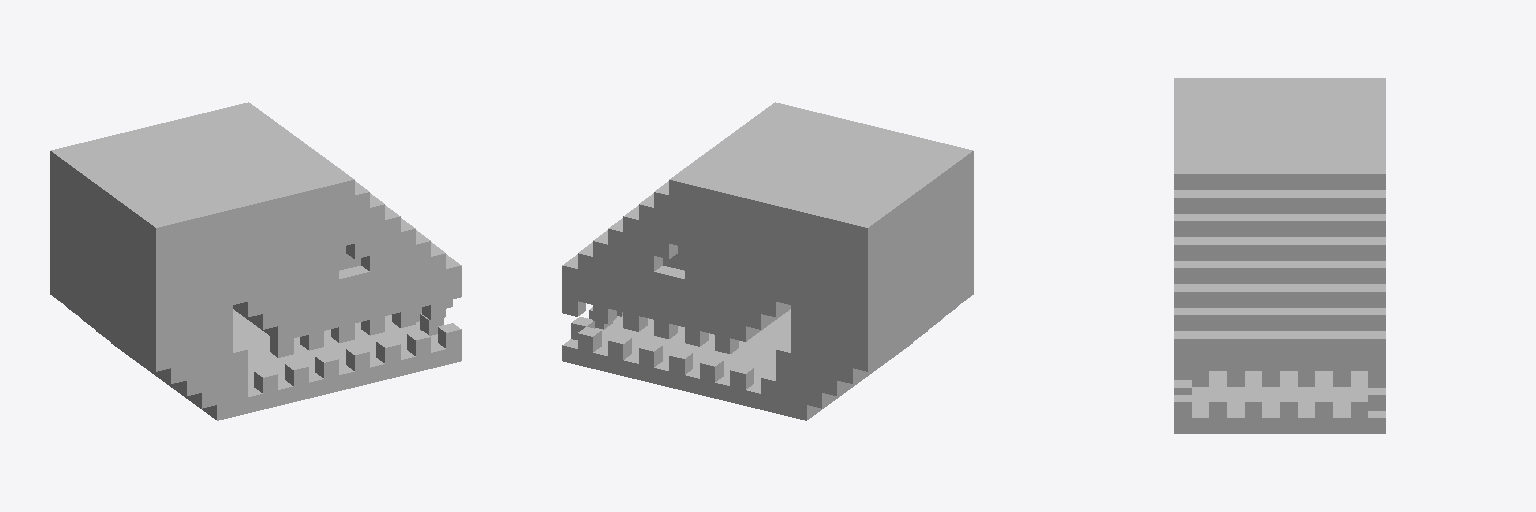
File: Medium Enemy.obj
3 views of the same model, side by side, from view 1: azimuth 30°, elevation 25°; view 2: azimuth 150°, elevation 25°; view 3: azimuth 270°, elevation 25° (orthographic).
Parts seen in each view (by area): view 1: object 1; view 2: object 1; view 3: object 1.
Part boxes in pixels (left/top/right/bottom): object 1: left=50, top=102, right=461, bottom=420; object 1: left=562, top=102, right=973, bottom=420; object 1: left=1174, top=78, right=1385, bottom=433.
Size of the model in its own units: 2 by 1.3 by 1.2.